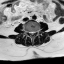CCS_stenosis: (31, 29, 33, 37)
LFS_normal: (35, 28, 37, 35)
LLS_normal: (33, 29, 35, 36)
RFS_normal: (27, 28, 29, 35)
RLS_normal: (29, 29, 31, 35)
